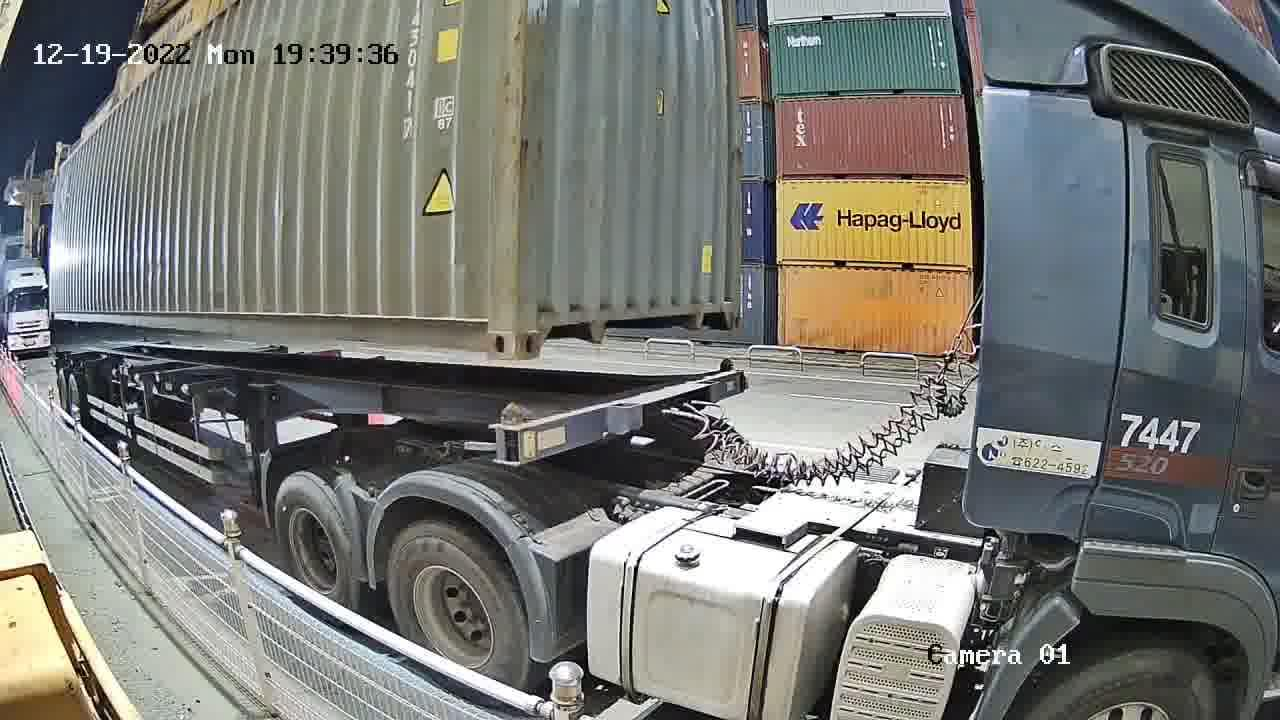Chassis: (492, 370, 741, 464)
Cone: (492, 401, 523, 465), (714, 356, 740, 374)
Hole_L: (513, 301, 569, 361)
Hole_R: (462, 305, 514, 362), (710, 283, 744, 328)
Tire: (387, 521, 529, 688), (276, 475, 356, 605)
